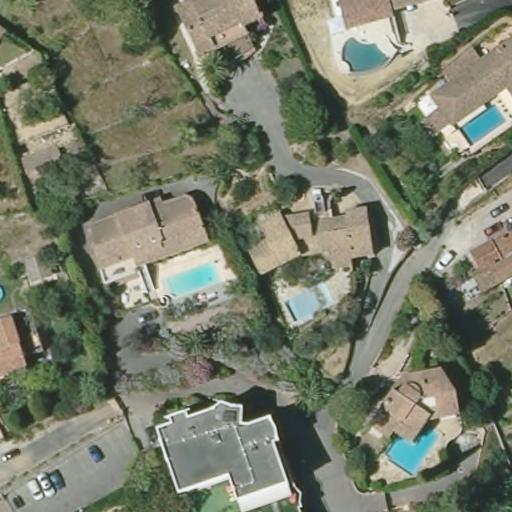pool: (382, 421, 449, 476), (446, 98, 511, 144), (330, 28, 393, 75), (158, 257, 225, 301), (282, 281, 338, 326)
